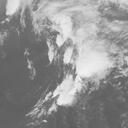cyclone: (51, 39, 110, 108)
